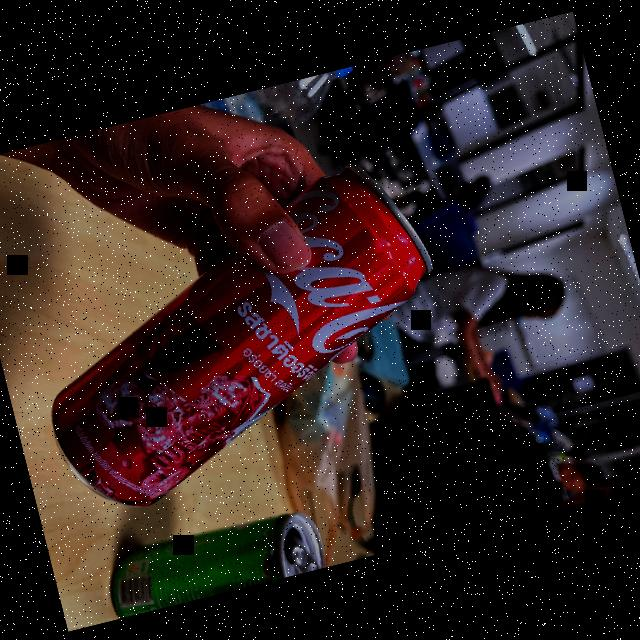can: (6, 137, 481, 528), (95, 496, 338, 620)
